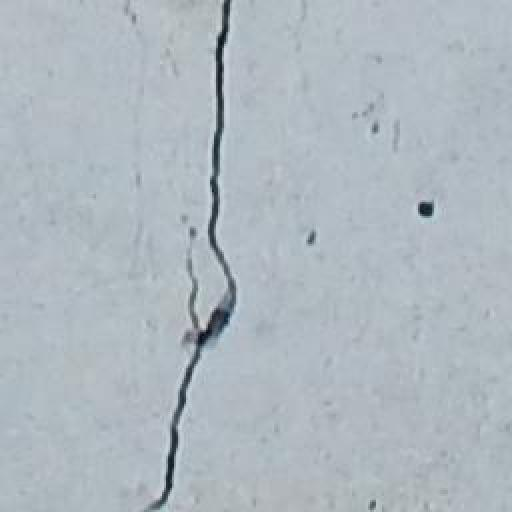spalling: (134, 5, 255, 511)
